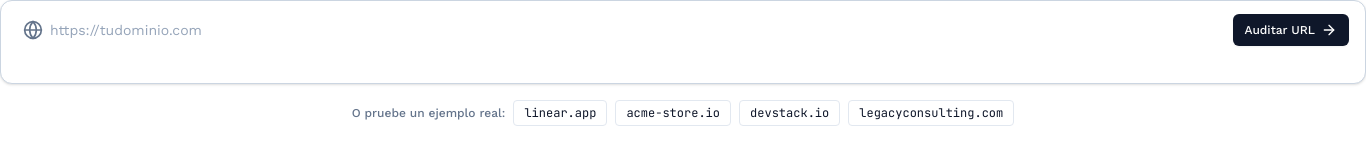
Test: AuditForm server error display (ADF-7) › renders the server-side protocol error with role=alert
Type "https://ejemplo.com" into the field named "URL del sitio".
click(683, 30); type("https://ejemplo.com")  # box [9,9,1357,51]
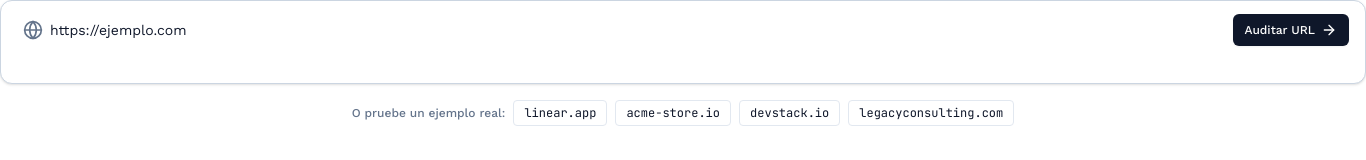
Click the button "Auditar URL".
click(1291, 30)  # box [1232,14,1349,46]
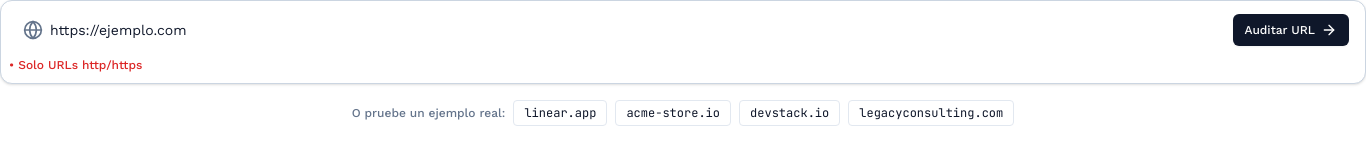
Check: the message shows "Solo URLs http/https", box [18,58,142,72]
